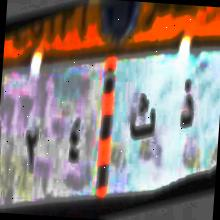2: (19, 122, 46, 189)
4: (60, 113, 86, 173)
thaa: (128, 89, 158, 149)
zaal: (176, 74, 200, 138)
